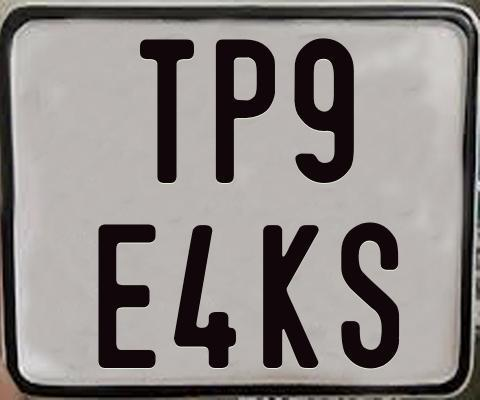4: (171, 223, 233, 368)
9: (293, 37, 357, 188)
E: (97, 221, 160, 368)
K: (263, 225, 322, 373)
P: (215, 39, 280, 184)
S: (339, 221, 397, 373)
T: (140, 36, 196, 184)
